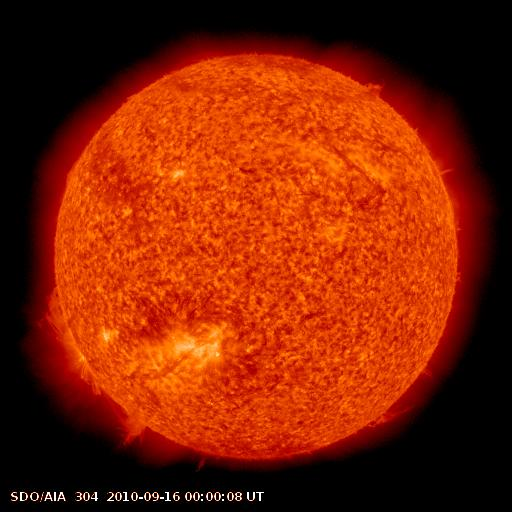prominence: (363, 360, 436, 429), (36, 282, 87, 363), (114, 406, 163, 461), (355, 66, 390, 104)
